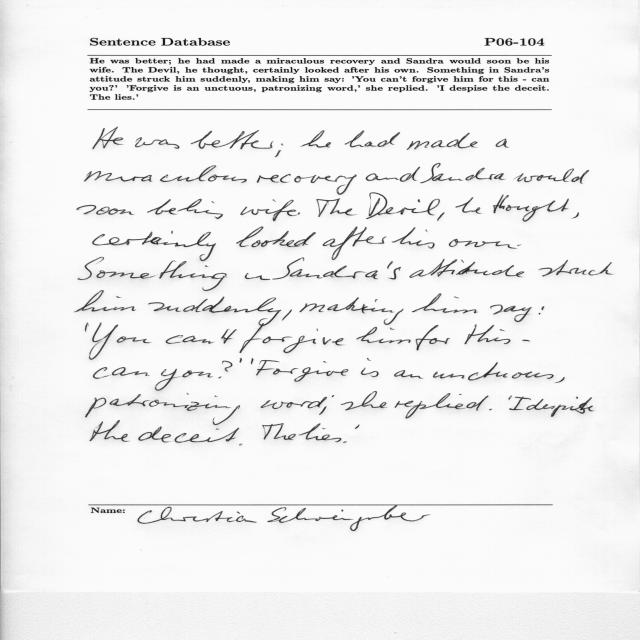word: (148, 297, 281, 351), (78, 257, 227, 291), (86, 393, 240, 425), (93, 231, 216, 261), (84, 165, 247, 183), (300, 297, 404, 325), (272, 258, 401, 280), (240, 329, 344, 353), (395, 393, 489, 418), (155, 361, 233, 391), (433, 362, 554, 381), (89, 323, 150, 360), (410, 259, 525, 278), (493, 194, 569, 222), (323, 227, 387, 260), (257, 174, 357, 195), (366, 193, 440, 219), (139, 426, 240, 443), (421, 163, 506, 183), (236, 227, 316, 247), (191, 130, 274, 149), (273, 361, 348, 382), (147, 199, 223, 219), (526, 397, 595, 417), (74, 291, 136, 313), (412, 294, 477, 314), (241, 200, 299, 221), (407, 133, 478, 150), (514, 168, 589, 184), (539, 260, 613, 276), (166, 329, 237, 344), (345, 131, 401, 148), (392, 227, 435, 249), (465, 325, 511, 345), (357, 327, 411, 344), (341, 392, 387, 411), (90, 420, 129, 442), (416, 325, 450, 350), (299, 423, 342, 442), (366, 167, 420, 182), (261, 397, 327, 409), (316, 198, 356, 217), (490, 305, 532, 322), (449, 239, 517, 249), (94, 367, 150, 379), (93, 127, 123, 149), (77, 205, 134, 215), (300, 130, 331, 148), (135, 137, 179, 149), (455, 197, 482, 214), (262, 423, 284, 440), (256, 360, 280, 375), (274, 425, 296, 440), (361, 358, 378, 377), (509, 397, 531, 410), (394, 370, 423, 379), (245, 273, 270, 280), (496, 139, 509, 148), (282, 310, 292, 321), (275, 144, 283, 157), (437, 212, 445, 221), (319, 406, 327, 415), (555, 377, 565, 383), (539, 306, 544, 315), (572, 213, 579, 219), (355, 424, 360, 429), (86, 323, 89, 331), (522, 340, 530, 342), (508, 396, 512, 400), (239, 358, 242, 363), (251, 358, 253, 364), (343, 441, 347, 443), (212, 201, 215, 203), (517, 245, 522, 246), (298, 213, 300, 215), (332, 395, 334, 397), (489, 409, 492, 410)
